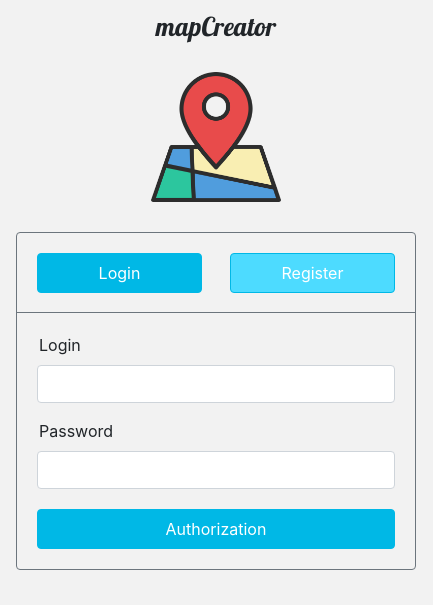
Test: it should throw error that login is too short
The image size is (433, 605).
Step 1. Click the button "Register" → [312, 273], box [230,253,395,293]
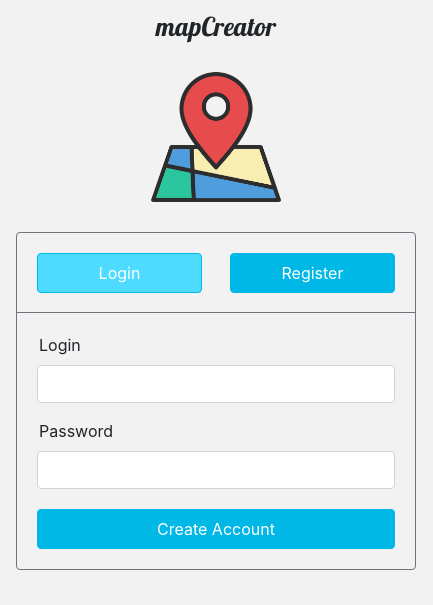
Step 2. Type "us" into the field labelled "Login" → [216, 384], box [37,365,395,403]
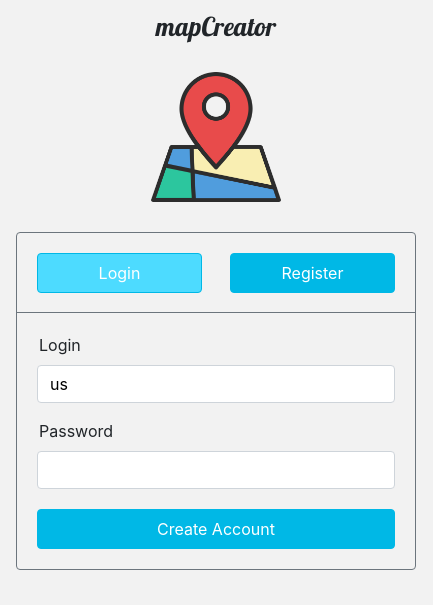
Step 3. Type "Password19!" into the password field labelled "Password" → [216, 470], box [37,451,395,489]
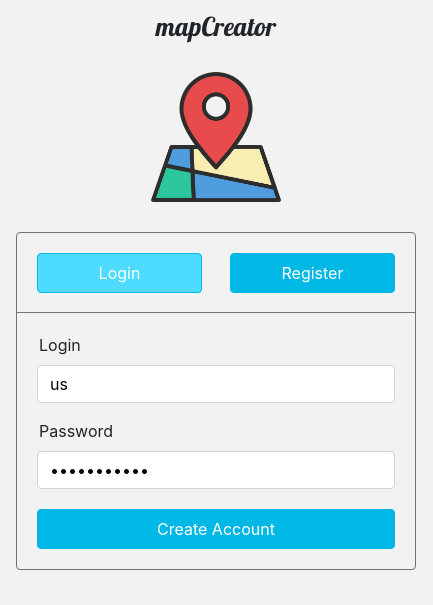
Step 4. Click the button "Create Account" → [216, 529], box [37,509,395,549]
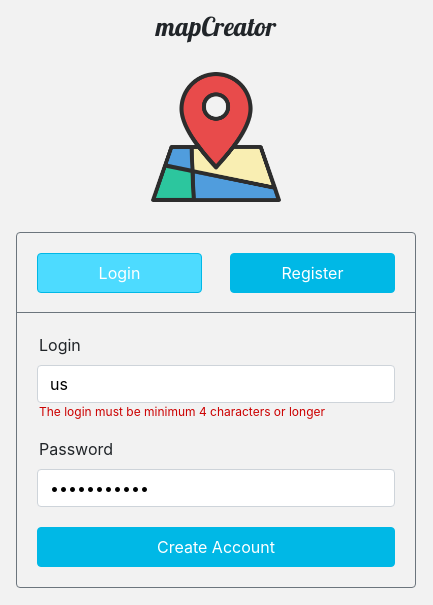
Now the text "The login must be minimum 4 characters or longer" is shown, box [39,404,325,419]
